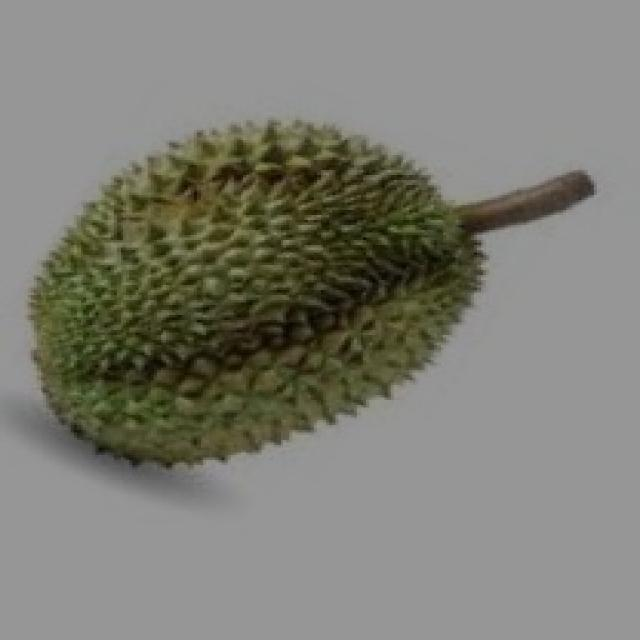fruit: (3, 108, 369, 520)
